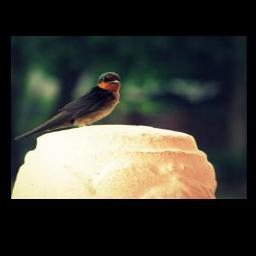Swallow: (14, 70, 122, 141)
